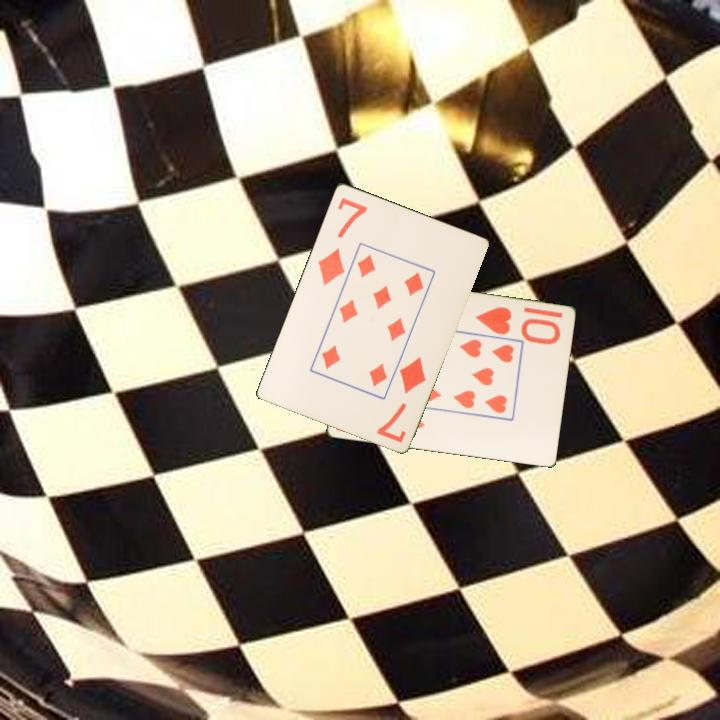10h: (472, 303, 563, 345)
7d: (314, 193, 370, 288), (373, 353, 429, 445)
